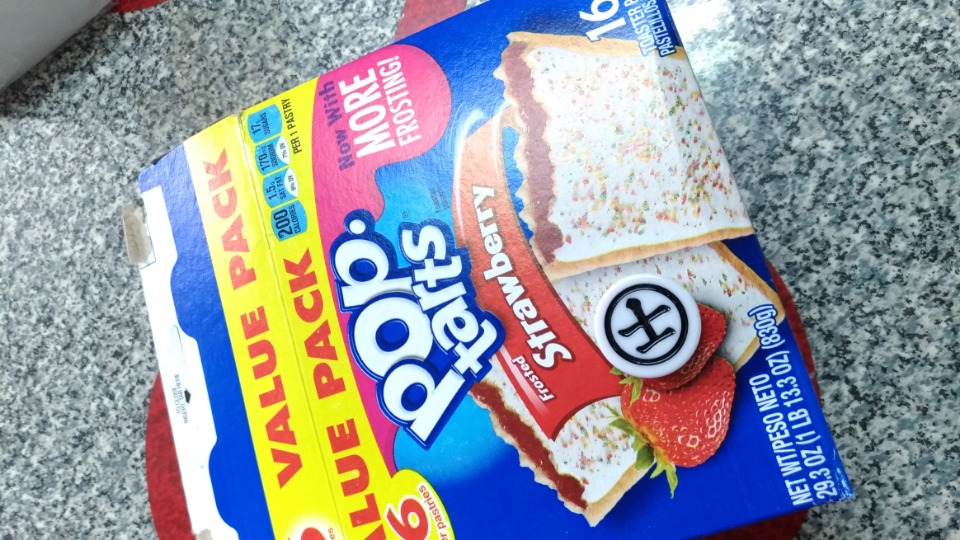b-advisor: (569, 260, 727, 381)
